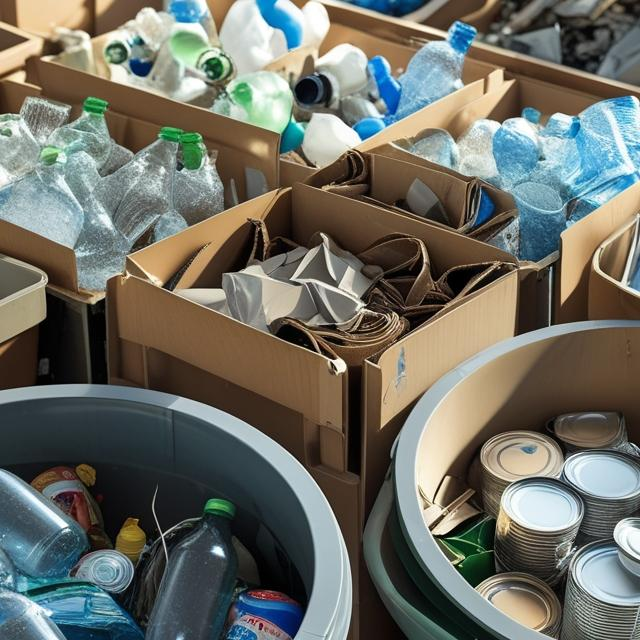plastic: (0, 575, 85, 640)
